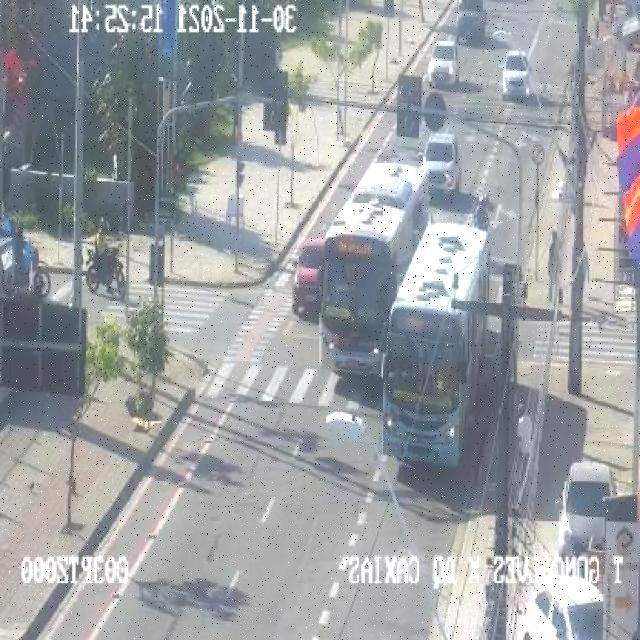Bus: (385, 222, 500, 458), (316, 158, 422, 386)
Car: (516, 576, 605, 638), (559, 462, 616, 555), (420, 129, 462, 197), (292, 238, 327, 318), (493, 51, 536, 104), (455, 0, 489, 42), (428, 40, 458, 87)
Cycle: (65, 197, 136, 299), (0, 212, 51, 292)
